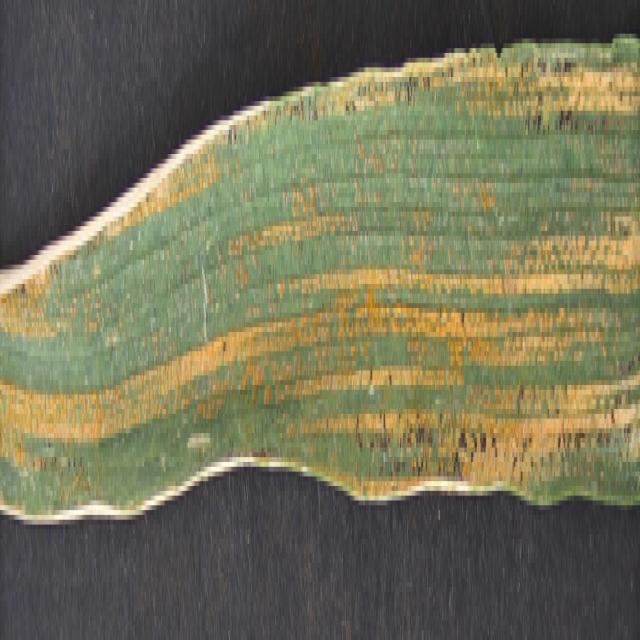leaf rust: (0, 33, 640, 548)
